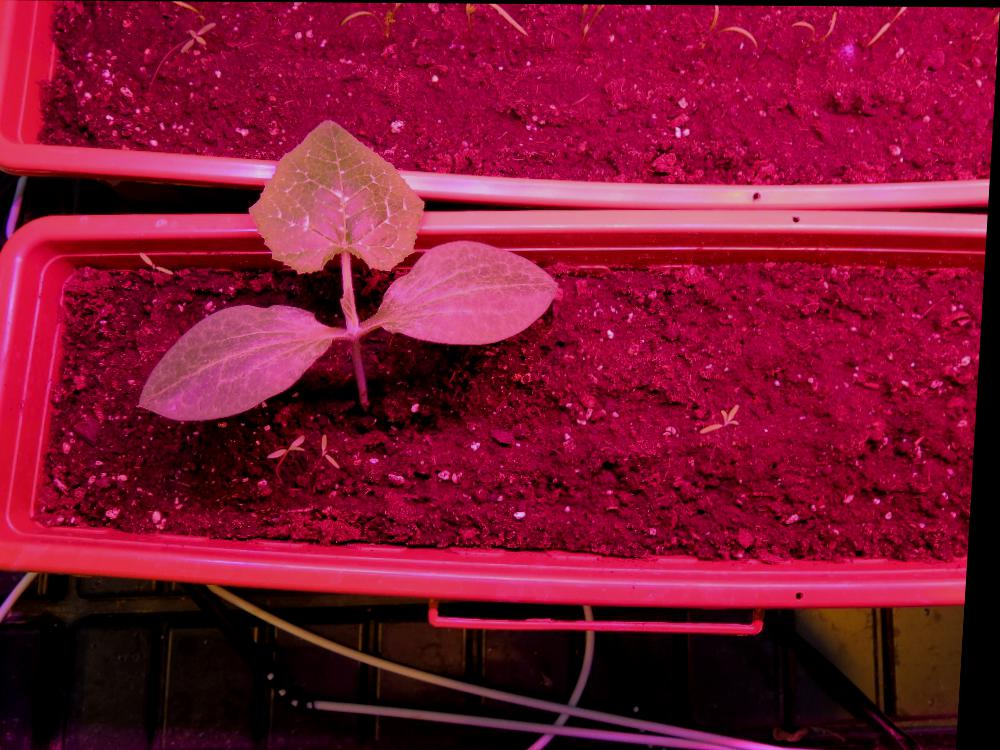weed: (701, 399, 746, 432), (179, 19, 216, 53), (270, 432, 312, 459), (139, 249, 177, 276), (323, 431, 348, 468)
